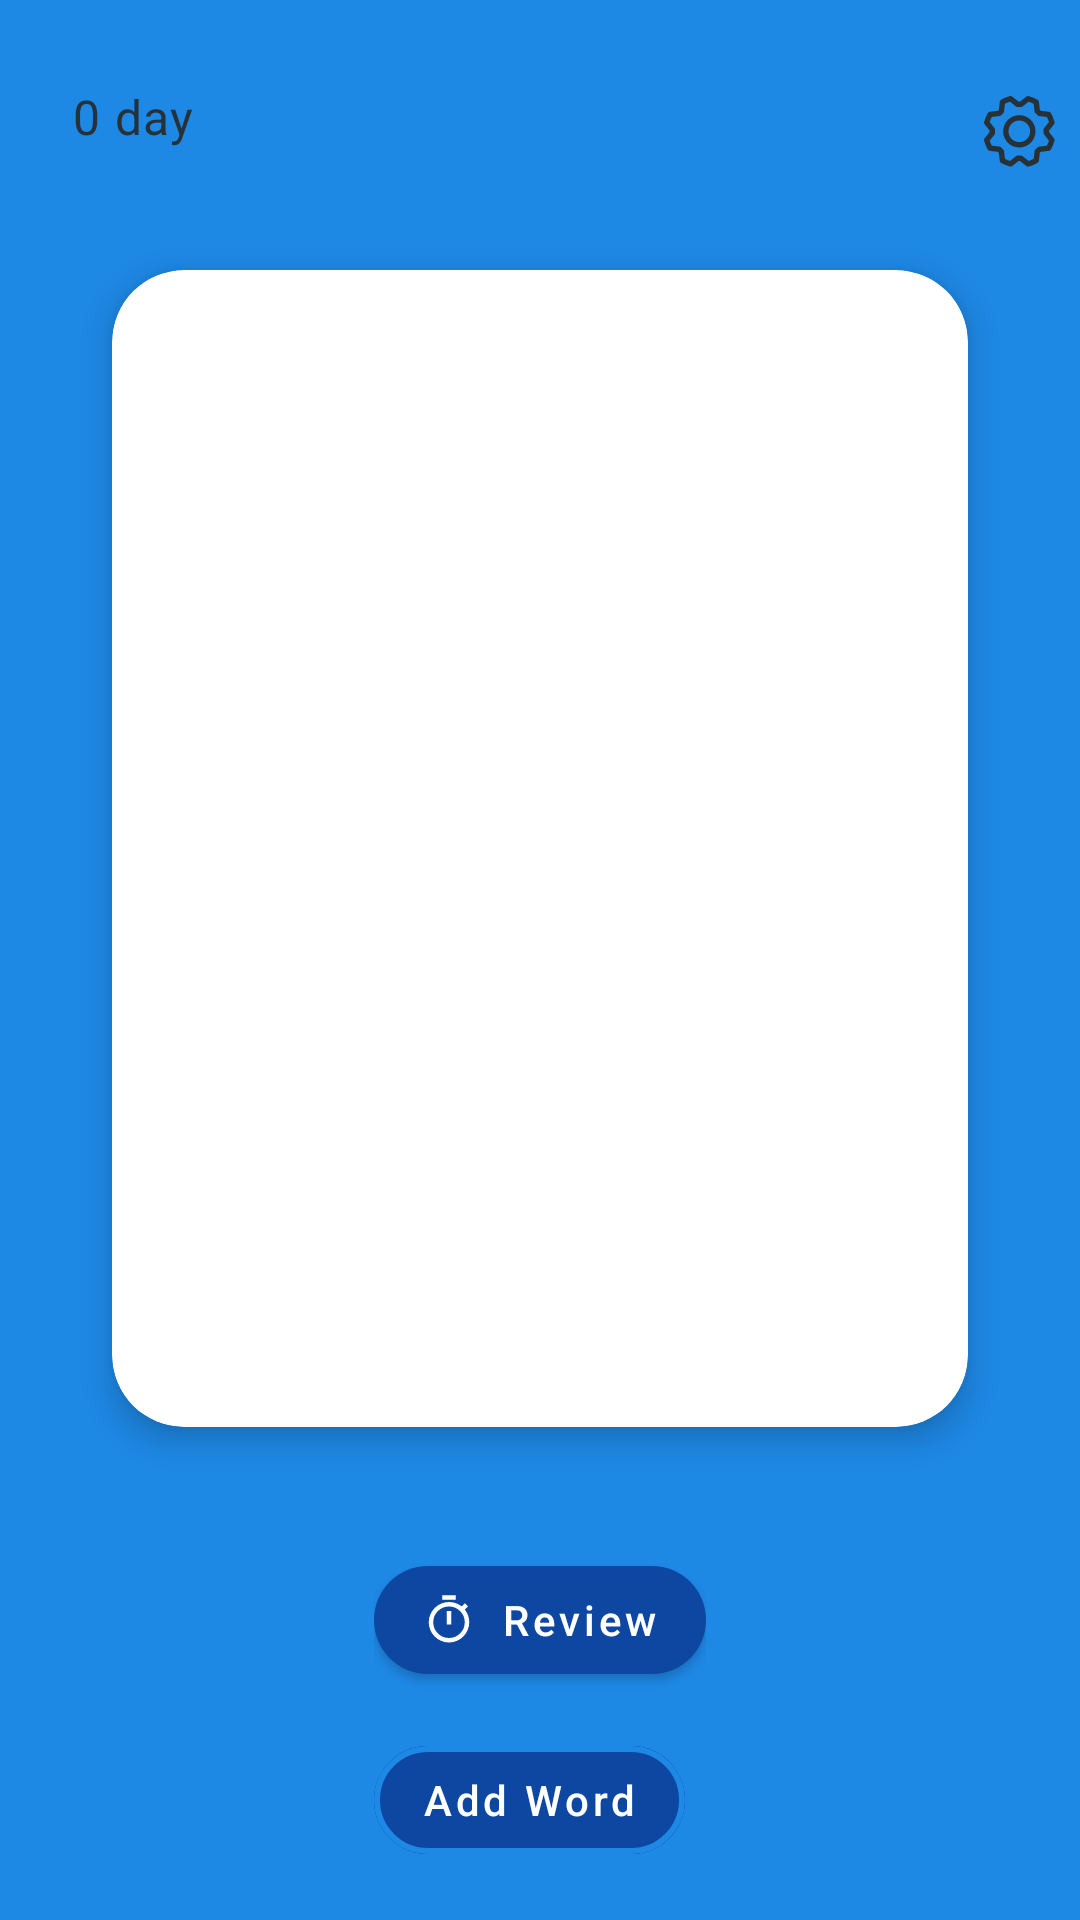

Where to tap for icons on this 1080px×1920px app screen, as [x,y]:
Settings: [1019,131]
